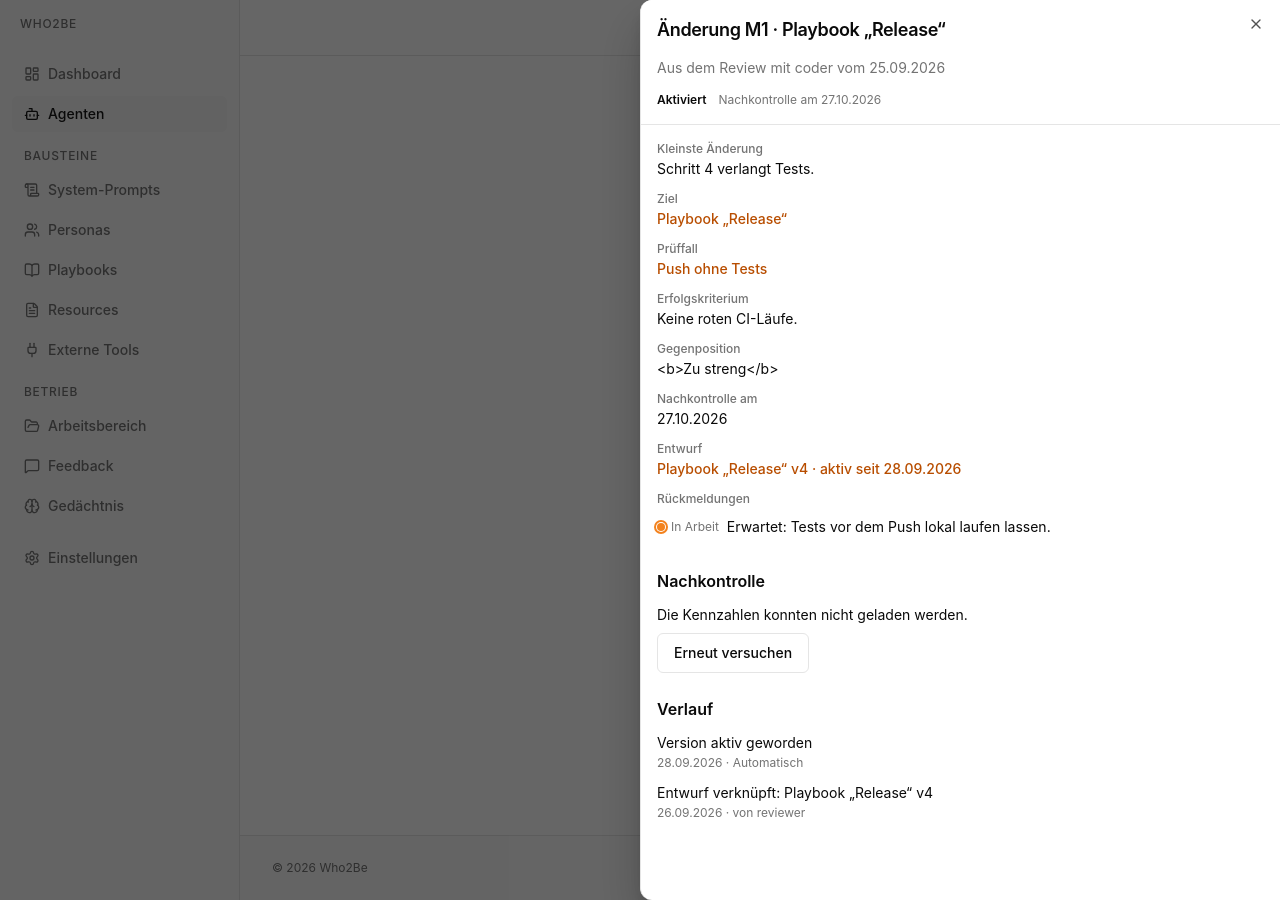
Test: ChangeSheet › Kennzahlen-Fehler: Rest bleibt stehen, erneuter Versuch lädt nach
Check: the message with test id "follow-up-error" shows "Die Kennzahlen konnten nicht geladen werden.", box [657,606,968,623]
Check: the element with test id "change-fields" is shown, box [657,141,1051,535]
Click the button "Erneut versuchen": (733, 653) [657,633,809,673]
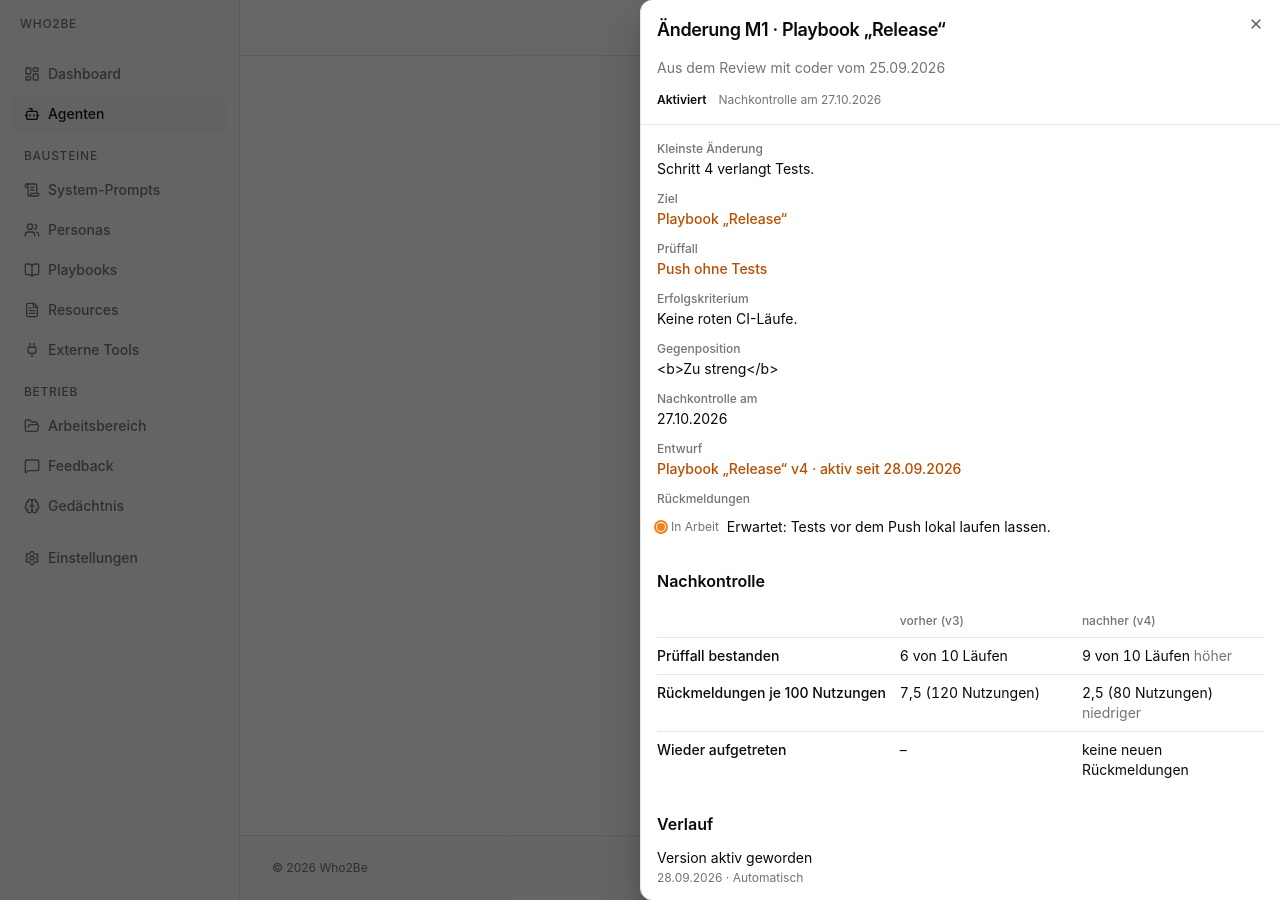
Check: the element with test id "follow-up-figures" is shown, box [657,605,1264,788]
